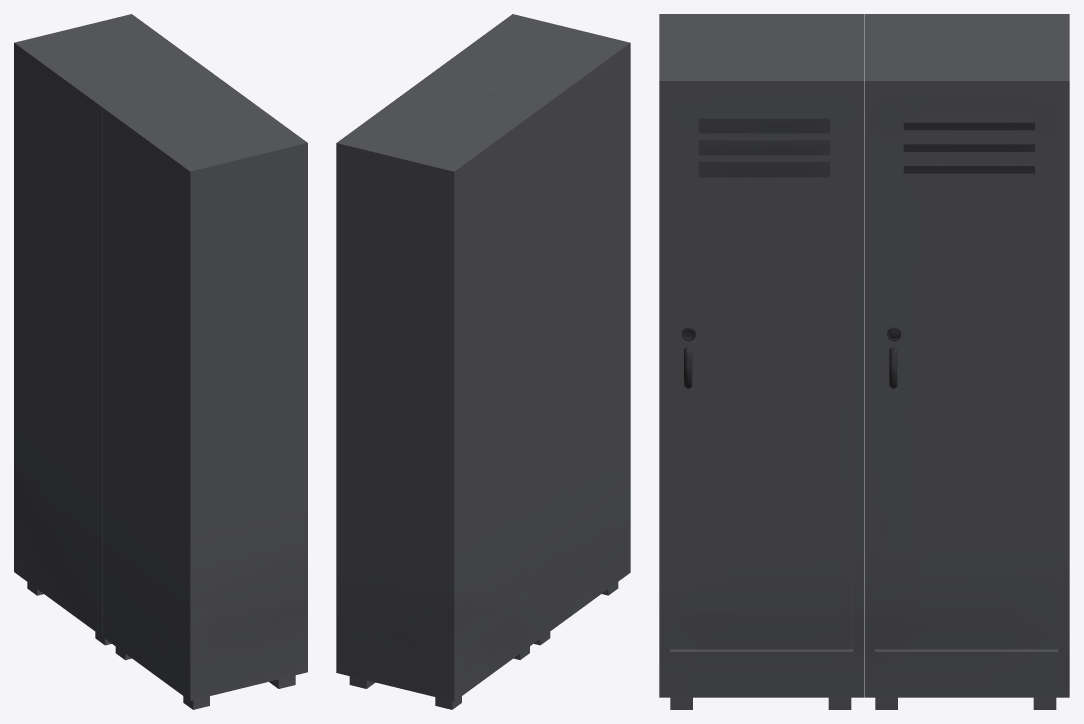
The model's file is locker.glb.
3 renders of one model, left to right at view 1: azimuth 30°, elevation 25°; view 2: azimuth 150°, elevation 25°; view 3: azimuth 270°, elevation 25°, orthographic. The views are drawn at different scales.
Visible parts, largest first — view 1: Body; view 2: Body; view 3: Body, Door.
Part boxes in pixels (x1,y1,x2,y2): Body: (14, 14, 307, 709); Body: (336, 14, 630, 709); Body: (659, 14, 1069, 709); Door: (875, 100, 1058, 649).
Bounding box in the file's own units: 0.4574 × 1.93 × 1.14.
Materials: 1 (1 with a texture image).
